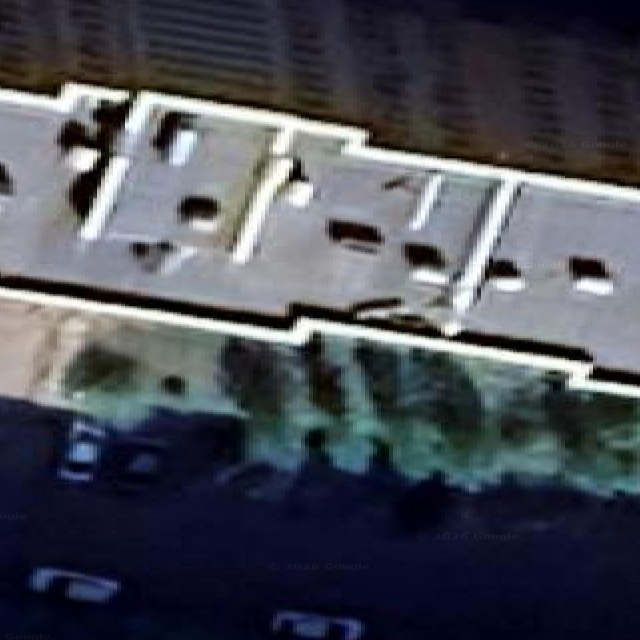car: (27, 567, 120, 603), (107, 436, 167, 491), (56, 417, 107, 480), (272, 611, 364, 639)
